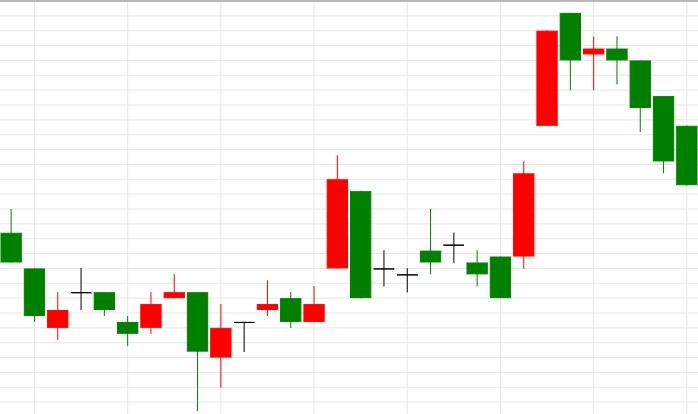evening_star_fall: (117, 273, 209, 411)
